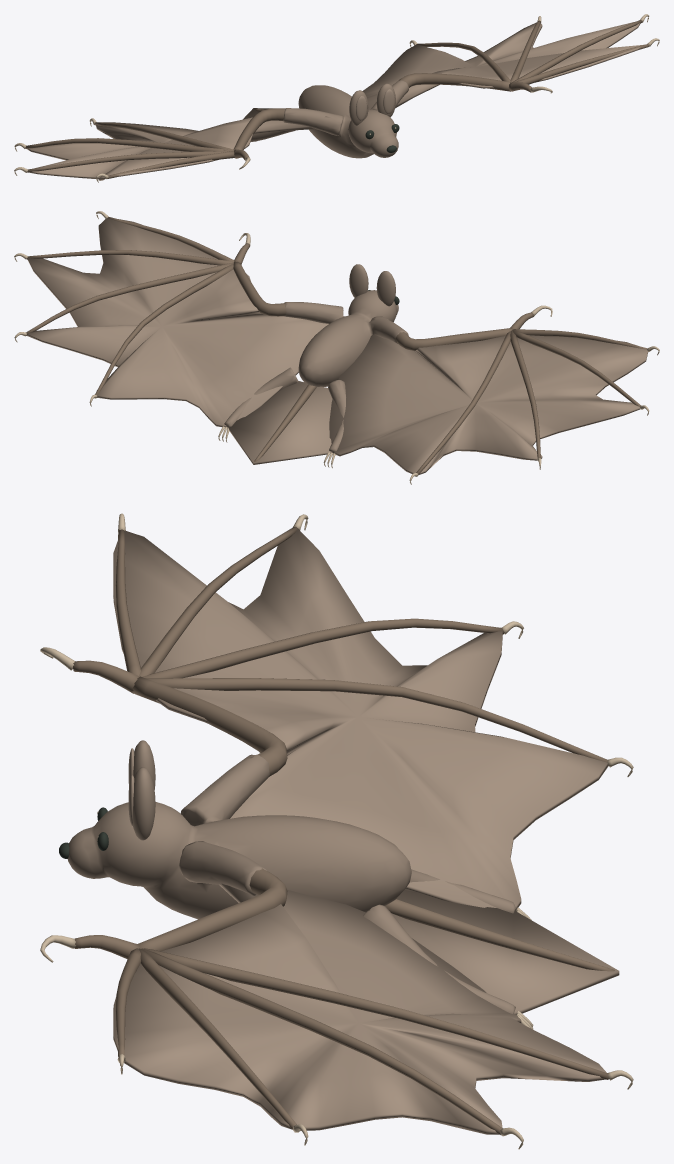
The model's file is onychonycteris.glb.
3 views of the same model, one above another, from view 1: azimuth 30°, elevation 25°; view 2: azimuth 150°, elevation 25°; view 3: azimuth 270°, elevation 25° (orthographic). The views are drawn at different scales.
Visible parts, largest first — view 1: two-broad-curved-closed-wing-membranes-and-tail-web, short-arms-and-four-long-supporting-wing-digits, compact-mammal-trunk-head-and-soft-shoulder-roots, small-rounded-upright-mammal-ears, five-wing-digit-claws-per-side-and-small-foot-claws; view 2: two-broad-curved-closed-wing-membranes-and-tail-web, short-arms-and-four-long-supporting-wing-digits, compact-mammal-trunk-head-and-soft-shoulder-roots, small-rounded-upright-mammal-ears, five-wing-digit-claws-per-side-and-small-foot-claws; view 3: two-broad-curved-closed-wing-membranes-and-tail-web, short-arms-and-four-long-supporting-wing-digits, compact-mammal-trunk-head-and-soft-shoulder-roots, small-rounded-upright-mammal-ears, five-wing-digit-claws-per-side-and-small-foot-claws.
Part boxes in pixels (box(x1,y1,x2,y2)): two-broad-curved-closed-wing-membranes-and-tail-web: box(27, 21, 643, 180); short-arms-and-four-long-supporting-wing-digits: box(25, 20, 649, 178); compact-mammal-trunk-head-and-soft-shoulder-roots: box(250, 80, 408, 158); small-rounded-upright-mammal-ears: box(349, 83, 395, 125); five-wing-digit-claws-per-side-and-small-foot-claws: box(14, 14, 659, 182); two-broad-curved-closed-wing-membranes-and-tail-web: box(27, 218, 648, 474); short-arms-and-four-long-supporting-wing-digits: box(26, 217, 647, 474); compact-mammal-trunk-head-and-soft-shoulder-roots: box(224, 290, 408, 454); small-rounded-upright-mammal-ears: box(349, 264, 395, 306); five-wing-digit-claws-per-side-and-small-foot-claws: box(14, 211, 659, 484); two-broad-curved-closed-wing-membranes-and-tail-web: box(113, 529, 619, 1134); short-arms-and-four-long-supporting-wing-digits: box(73, 526, 614, 1135); compact-mammal-trunk-head-and-soft-shoulder-roots: box(67, 754, 515, 1013); small-rounded-upright-mammal-ears: box(128, 740, 155, 840); five-wing-digit-claws-per-side-and-small-foot-claws: box(40, 513, 633, 1149).
Size of the model in its own units: 0.2771 by 0.0486 by 0.1121.
